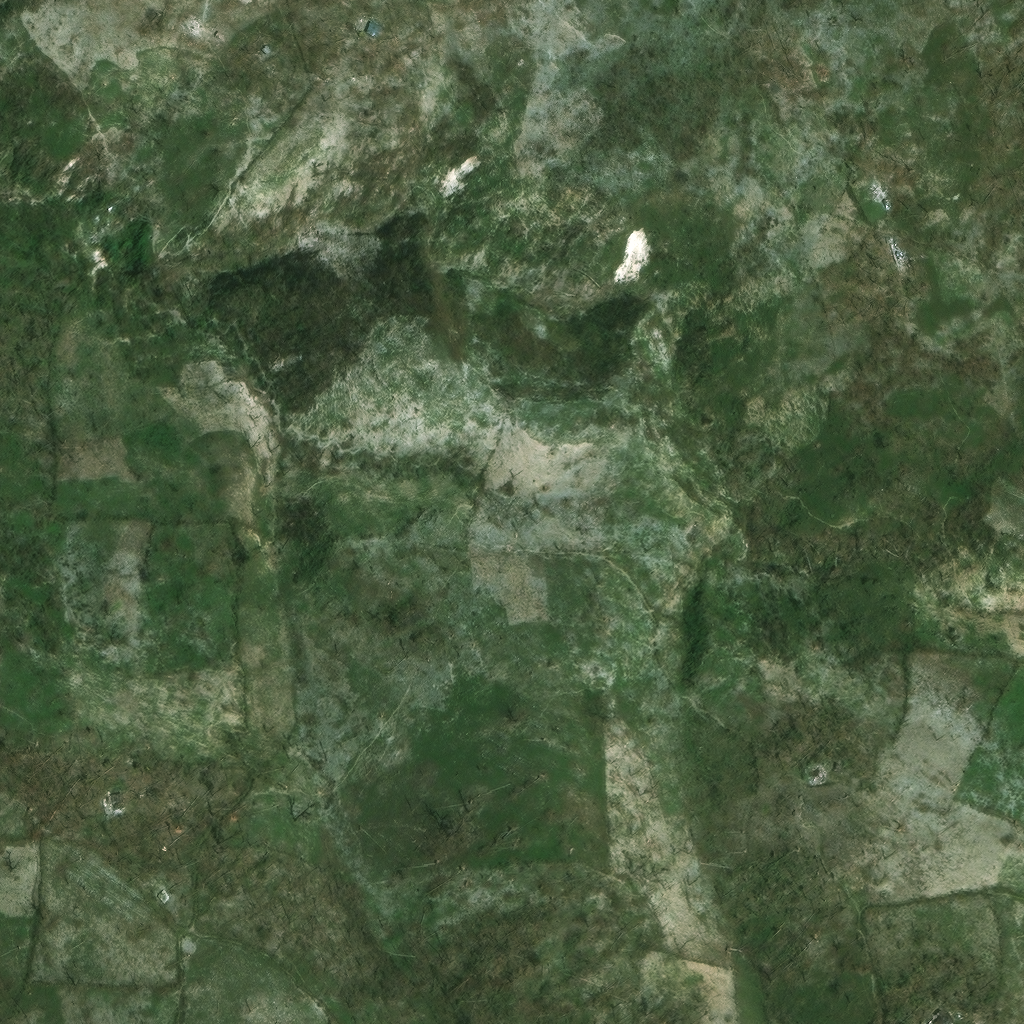destroyed: (183, 15, 204, 34), (874, 180, 893, 200), (115, 788, 132, 806), (901, 246, 916, 263), (823, 763, 834, 776)
major_damage: (255, 55, 272, 71)
minor_damage: (329, 20, 347, 37), (158, 887, 172, 901)
unclassified: (823, 60, 840, 77), (420, 880, 437, 896), (933, 1009, 951, 1023), (884, 441, 900, 456), (851, 871, 865, 885), (817, 42, 827, 52), (0, 331, 5, 340)
